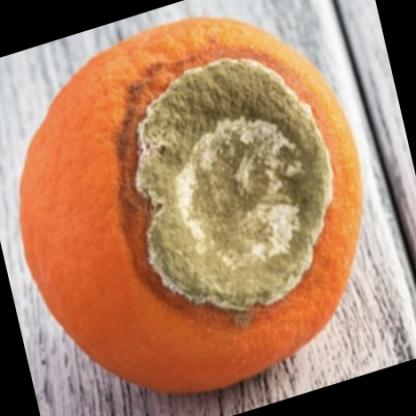rotten: (20, 19, 362, 393)
